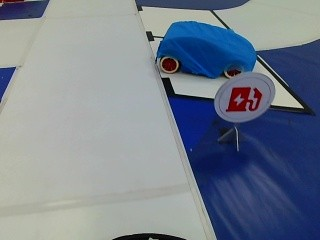battery: (218, 71, 270, 120)
car: (152, 19, 260, 81)
